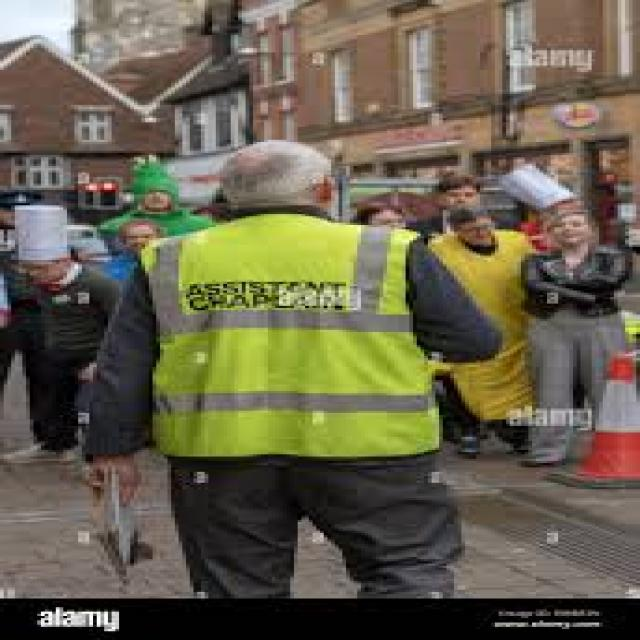Reflective-Jacket: (134, 220, 443, 472)
